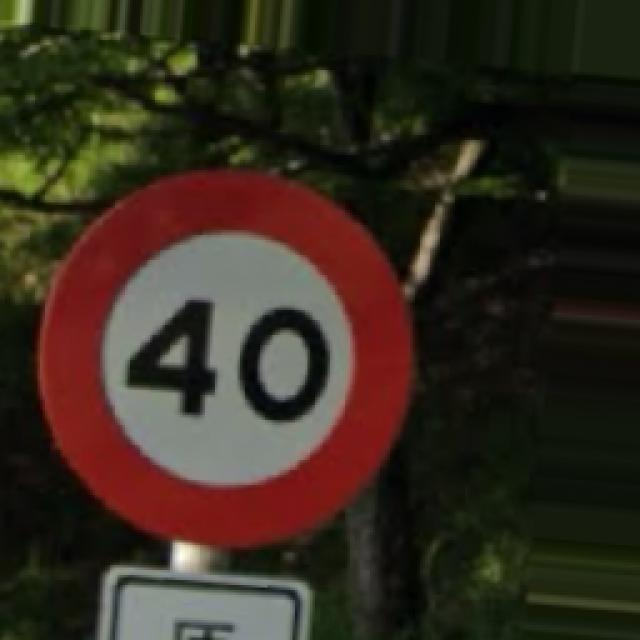Speed Limit -40-: (38, 170, 410, 545)
